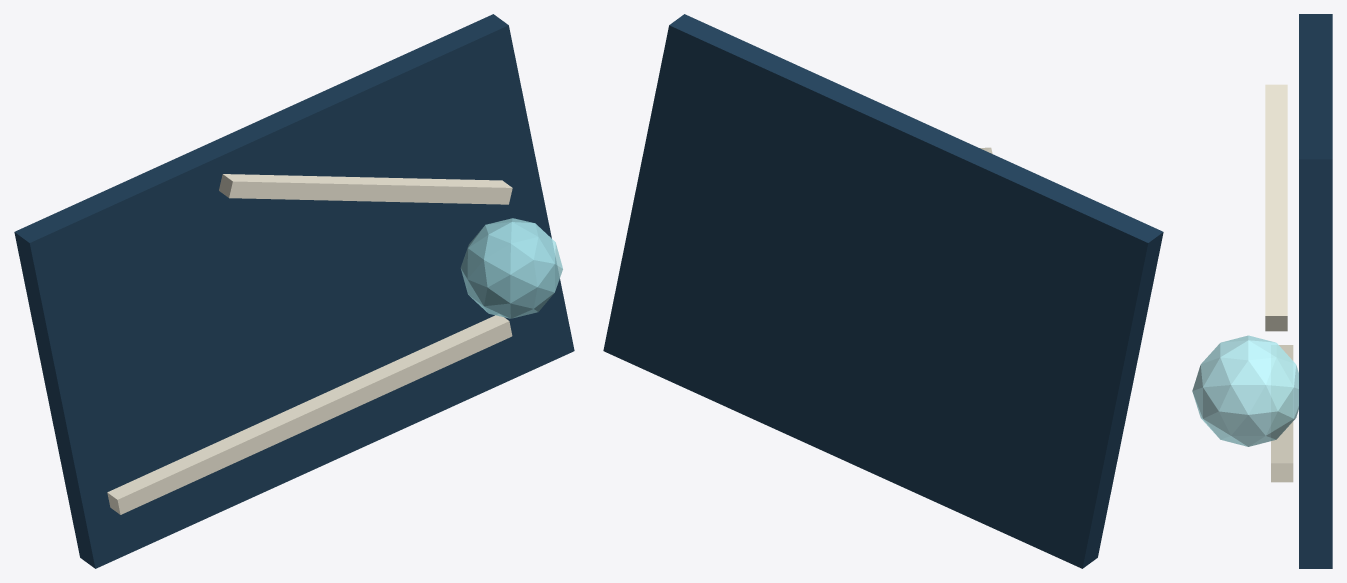
The model's file is 02_world_prop_polish.glb.
The picture shows the model from 3 angles, left to right: view 1: azimuth 30°, elevation 25°; view 2: azimuth 150°, elevation 25°; view 3: azimuth 270°, elevation 25°; orthographic projection. The views are drawn at different scales.
Parts seen in each view (by area): view 1: object_overlay_plate, edge_wear_a, glow_socket, edge_wear_b; view 2: object_overlay_plate; view 3: object_overlay_plate, glow_socket, edge_wear_b, edge_wear_a.
Boxes of the visible parts, left/top/right/bottom form: object_overlay_plate: left=14, top=14, right=574, bottom=568; edge_wear_a: left=107, top=314, right=512, bottom=514; glow_socket: left=460, top=218, right=562, bottom=318; edge_wear_b: left=219, top=174, right=512, bottom=204; object_overlay_plate: left=603, top=14, right=1163, bottom=568; object_overlay_plate: left=1299, top=14, right=1332, bottom=568; glow_socket: left=1192, top=335, right=1298, bottom=446; edge_wear_b: left=1265, top=84, right=1287, bottom=331; edge_wear_a: left=1271, top=345, right=1293, bottom=482.
Size of the model in its own units: 1.23 by 0.9524 by 0.25.
